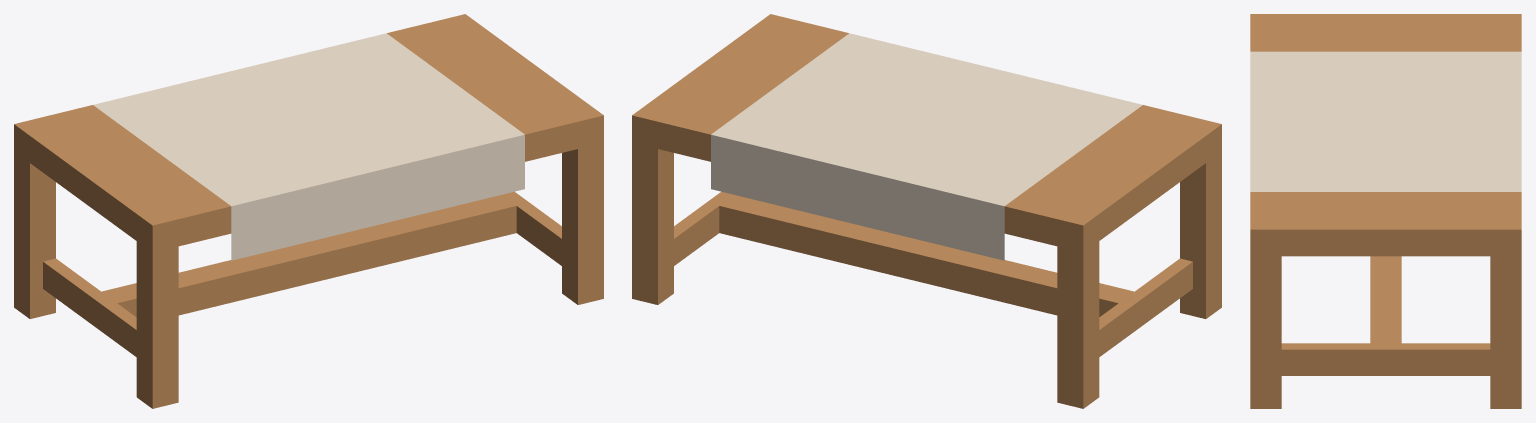
File: kitTableCloth.glb
The picture shows the model from 3 angles, left to right: view 1: azimuth 30°, elevation 25°; view 2: azimuth 150°, elevation 25°; view 3: azimuth 270°, elevation 25°; orthographic projection. The views are drawn at different scales.
Parts seen in each view (by area): view 1: kitTableCloth_wood, kitTableCloth_fabric; view 2: kitTableCloth_wood, kitTableCloth_fabric; view 3: kitTableCloth_wood, kitTableCloth_fabric.
Part boxes in pixels (bbox=[...]): kitTableCloth_wood: bbox=[14, 14, 603, 408]; kitTableCloth_fabric: bbox=[93, 33, 524, 260]; kitTableCloth_wood: bbox=[632, 14, 1221, 408]; kitTableCloth_fabric: bbox=[711, 33, 1142, 260]; kitTableCloth_wood: bbox=[1250, 14, 1521, 408]; kitTableCloth_fabric: bbox=[1250, 51, 1521, 191].
Size of the model in its own units: 1.68 by 0.6535 by 0.8947.
